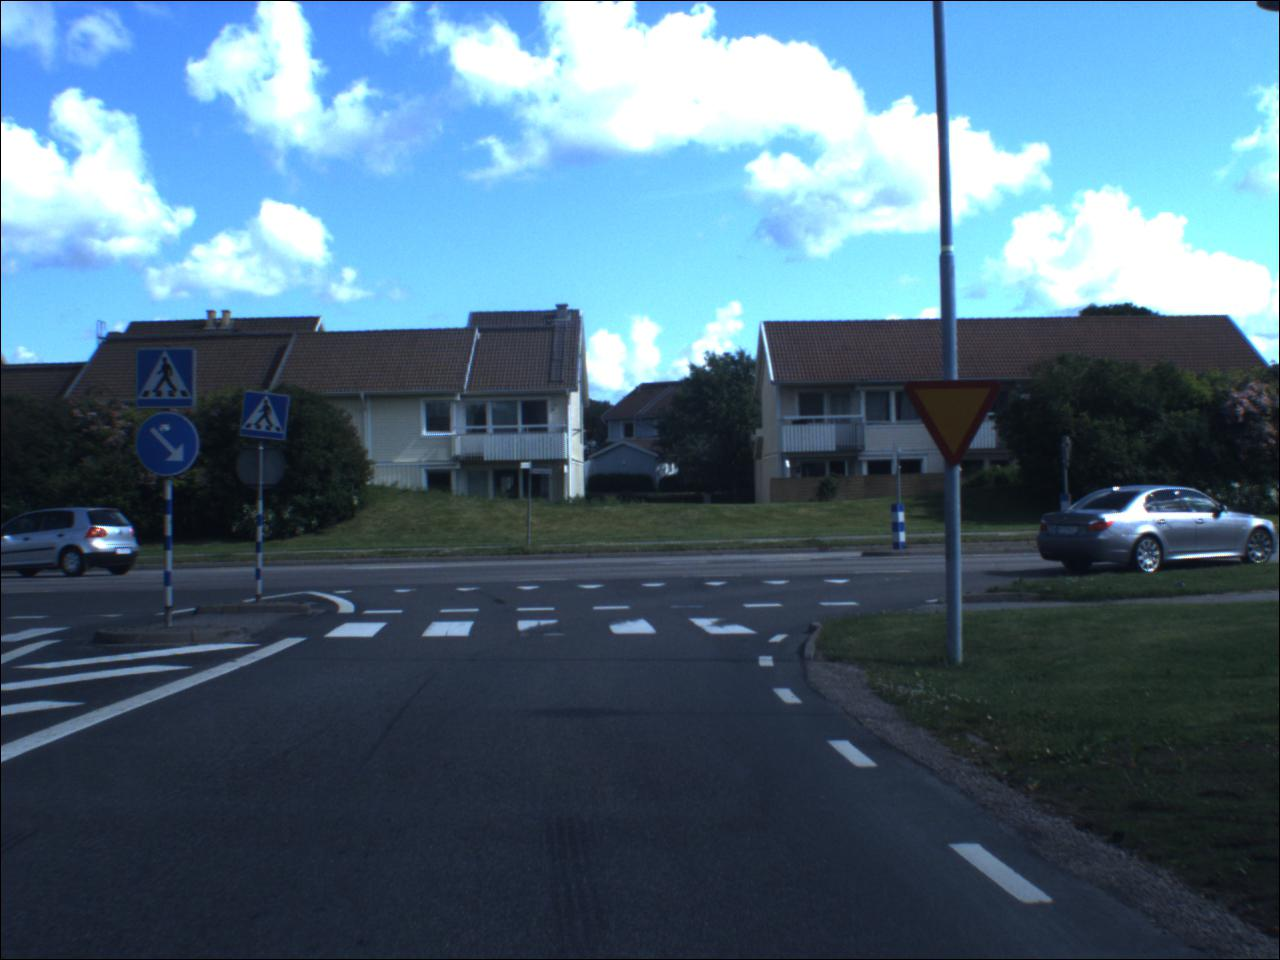GIVE_WAY: (906, 378, 1002, 471)
PASS_RIGHT_SIDE: (134, 414, 205, 481)
PEDESTRIAN_CROSSING: (139, 349, 198, 410), (241, 393, 290, 442)
